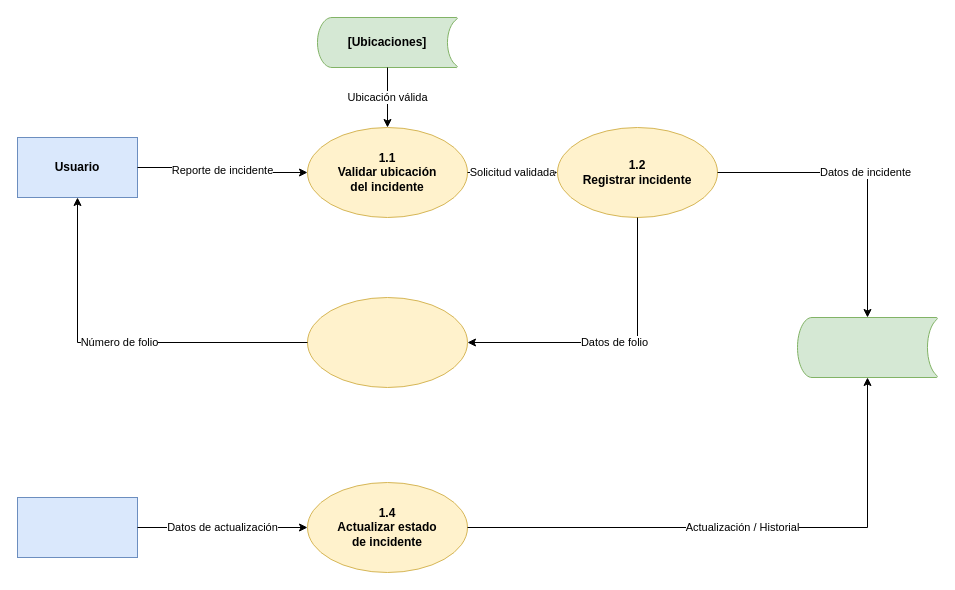
The diagram is 955 pixels wide and 590 high, and some of its shapes have lost their labels. The centre of each missing label's shape, as x and y in pixels:
1.3 Generar folio: (x=387, y=342)
[Reportes]: (x=867, y=347)
Técnico: (x=77, y=527)
